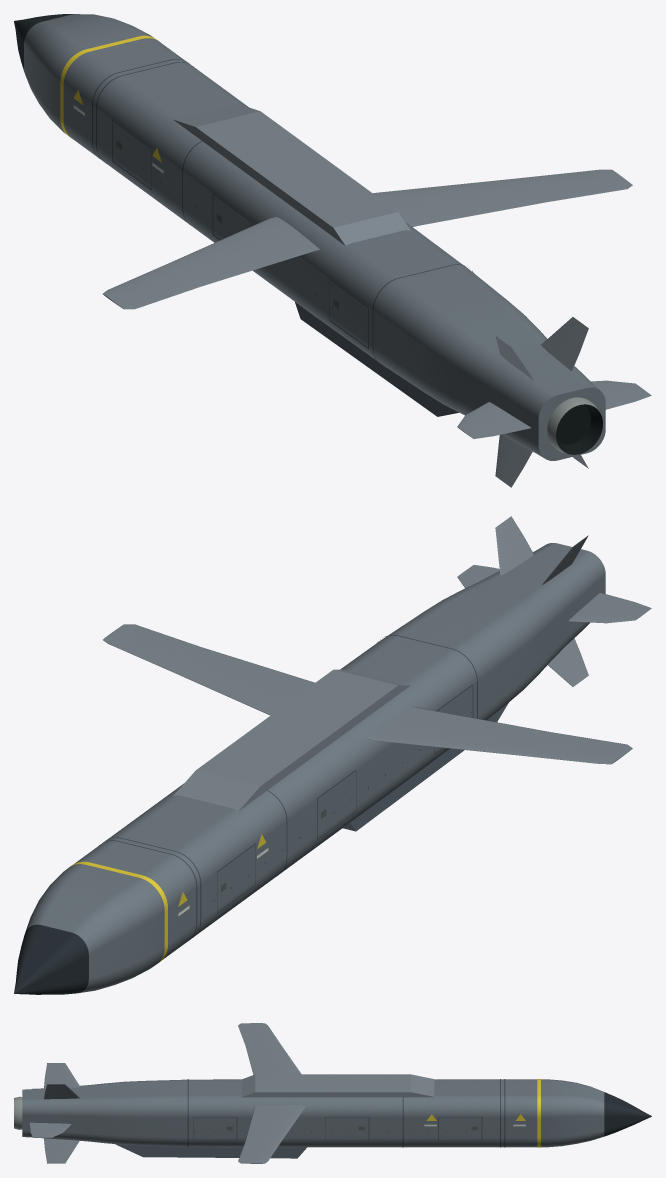
The model's file is stormshadow.obj.
The picture shows the model from 3 angles, top to bottom: view 1: azimuth 30°, elevation 25°; view 2: azimuth 150°, elevation 25°; view 3: azimuth 270°, elevation 25°; orthographic projection. The views are drawn at different scales.
Parts seen in each view (by area): view 1: smooth_fuselage, main_wing, wing_root_fairing, canted_tail_fin, lateral_tailplane, intake_fairing, body_cap, exhaust_dark, exhaust_recess, panel_seam, exhaust_lip; view 2: smooth_fuselage, main_wing, wing_root_fairing, canted_tail_fin, lateral_tailplane, intake_fairing, panel_seam; view 3: smooth_fuselage, wing_root_fairing, main_wing, canted_tail_fin, intake_fairing, lateral_tailplane, panel_outline, panel_seam, exhaust_lip, yellow_band.
Part boxes in pixels (<box>): smooth_fuselage: <box>14,14,599,457</box>; main_wing: <box>103,169,632,309</box>; wing_root_fairing: <box>173,103,410,245</box>; canted_tail_fin: <box>495,317,588,487</box>; lateral_tailplane: <box>457,380,651,438</box>; intake_fairing: <box>295,302,458,416</box>; body_cap: <box>538,387,605,460</box>; exhaust_dark: <box>556,405,590,444</box>; exhaust_recess: <box>556,404,602,454</box>; panel_seam: <box>92,59,473,367</box>; exhaust_lip: <box>547,397,599,453</box>; smooth_fuselage: <box>14,543,605,994</box>; main_wing: <box>103,624,632,764</box>; wing_root_fairing: <box>173,669,410,811</box>; canted_tail_fin: <box>495,516,588,686</box>; lateral_tailplane: <box>457,565,651,623</box>; intake_fairing: <box>343,703,508,831</box>; panel_seam: <box>99,635,477,939</box>; smooth_fuselage: <box>22,1079,651,1147</box>; wing_root_fairing: <box>241,1074,435,1097</box>; main_wing: <box>238,1023,304,1163</box>; canted_tail_fin: <box>44,1063,80,1163</box>; intake_fairing: <box>115,1144,306,1158</box>; lateral_tailplane: <box>29,1088,71,1137</box>; panel_outline: <box>193,1117,482,1140</box>; panel_seam: <box>187,1079,505,1147</box>; exhaust_lip: <box>14,1096,22,1129</box>; yellow_band: <box>537,1079,540,1147</box>.
Bounding box in the file's own units: 4.4 × 1.16 × 8.46.
Materials: 1 (1 with a texture image).
